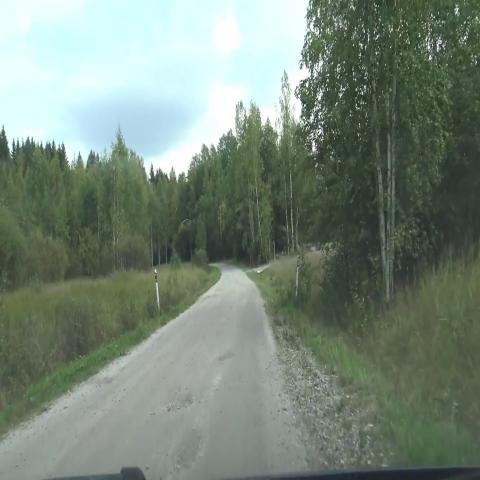pothole: (160, 410, 213, 480), (160, 379, 199, 421), (208, 340, 244, 374)
